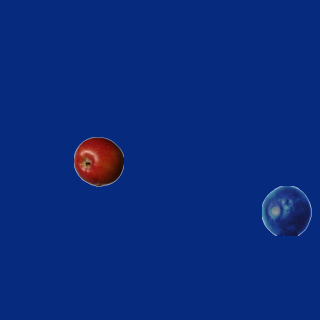Apple Braeburn: (73, 136, 123, 186)
Huckleberry: (261, 185, 311, 235)
